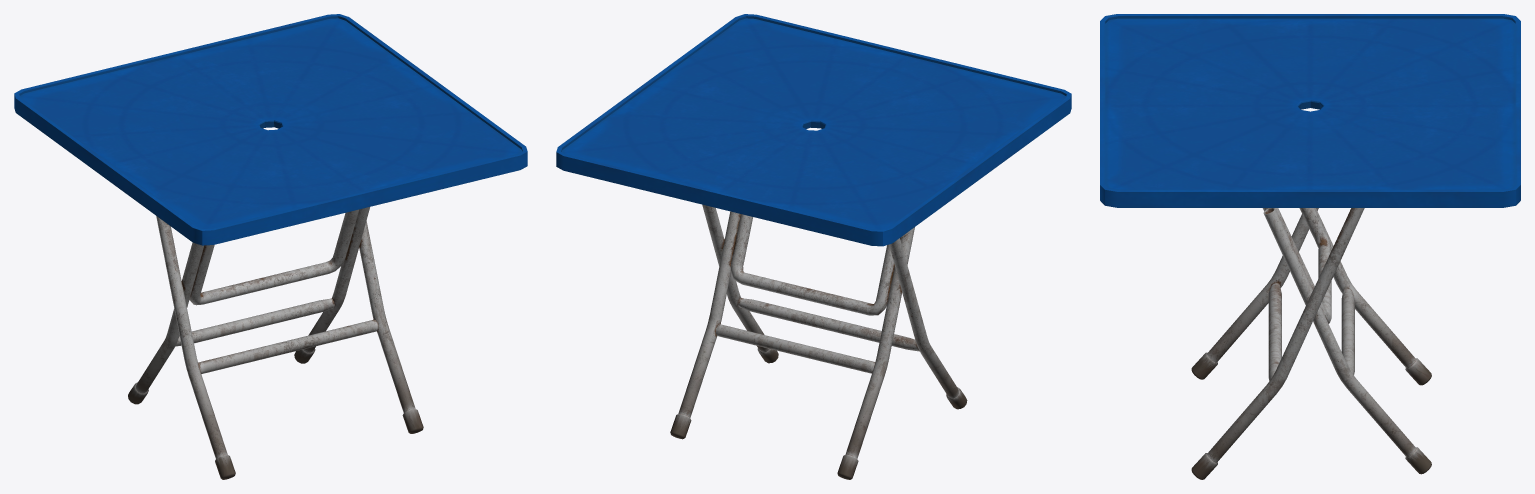
The model's file is table (1).glb.
3 views of the same model, side by side, from view 1: azimuth 30°, elevation 25°; view 2: azimuth 150°, elevation 25°; view 3: azimuth 270°, elevation 25° (orthographic). The views are drawn at different scales.
Visible parts, largest first — view 1: Table; view 2: Table; view 3: Table.
Boxes of the visible parts, bbox=[...] form: Table: bbox=[14, 14, 527, 479]; Table: bbox=[556, 14, 1071, 479]; Table: bbox=[1100, 14, 1520, 479].
Bounding box in the file's own units: 0.74 × 0.6324 × 0.74.
1 material, 1 textured.
